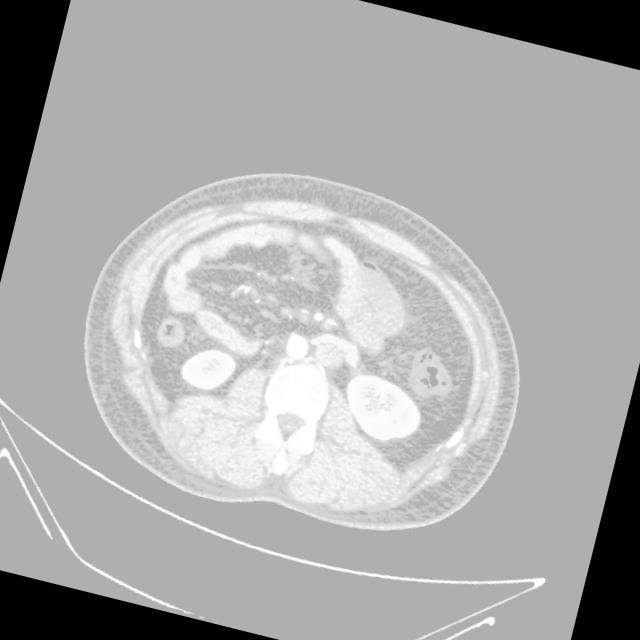NORMAL: (73, 150, 560, 547)
